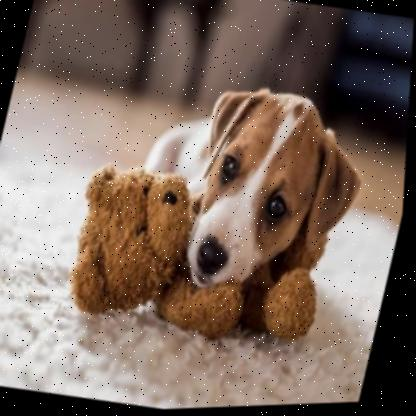dog: (133, 50, 392, 313)
